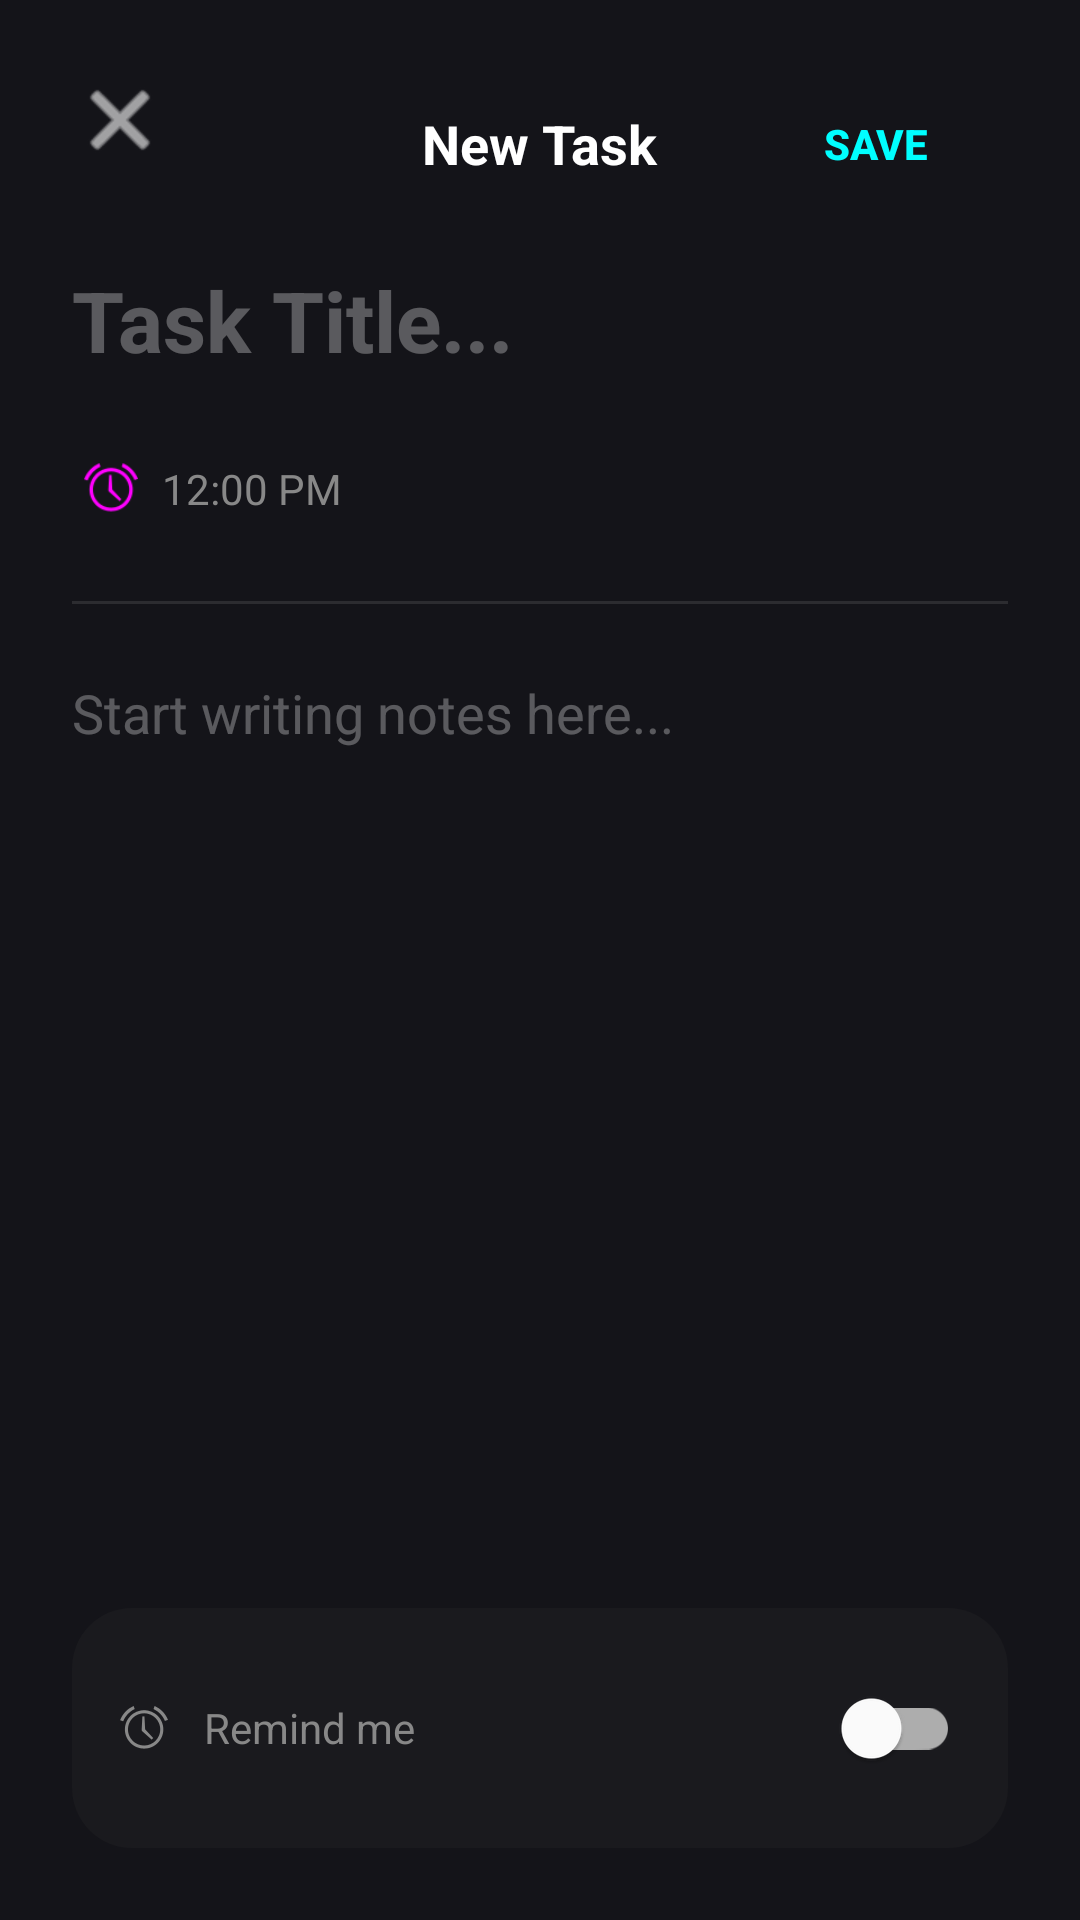

Locate icon controls on the screen. Image size 1080px x 1920px, boxes as (x1, y1, x2, y2).
close clear cancel: (90, 90, 150, 150)
lock idle alarm: (84, 463, 138, 512), (120, 1706, 168, 1749)
